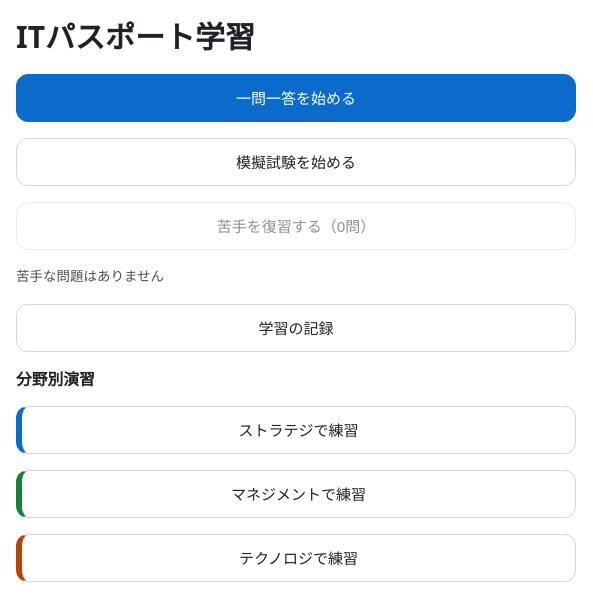
Test: 解答中の画面 › 「前へ」「次へ」で問題を行き来でき、選んだ答えは残る
Click the button "模擬試験を始める" at (296, 162), box x1=16 y1=138 x2=576 y2=186
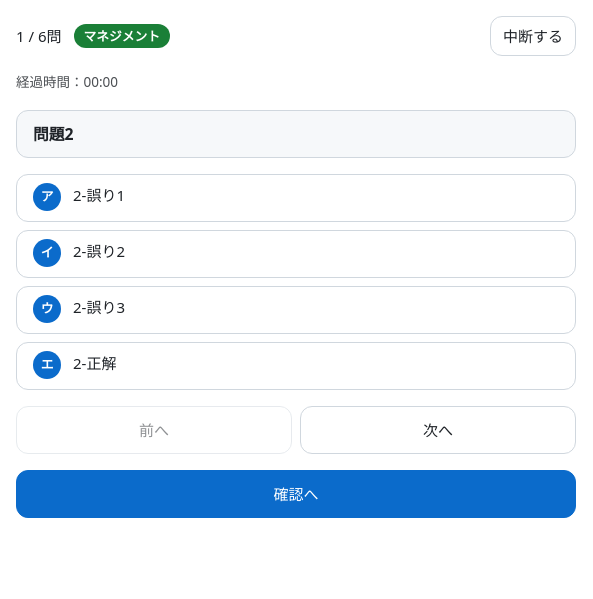
Click the button "ア 2-誤り1" at (99, 195), box x1=16 y1=174 x2=576 y2=222
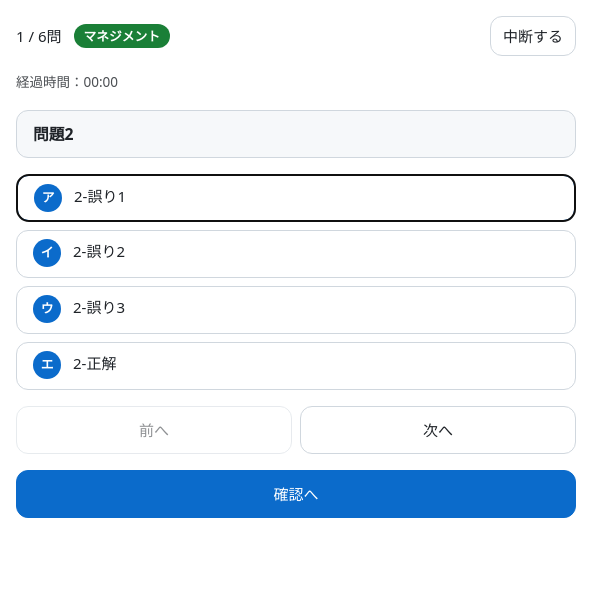
Click the button "次へ" at (438, 430), box x1=300 y1=406 x2=576 y2=454
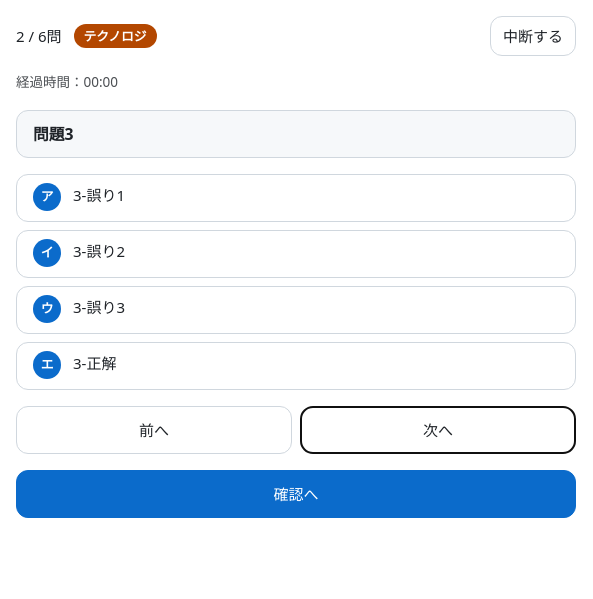
Check: the text "2 / 6問" is shown, box x1=16 y1=24 x2=62 y2=48
Click the button "前へ" at (154, 430), box x1=16 y1=406 x2=292 y2=454
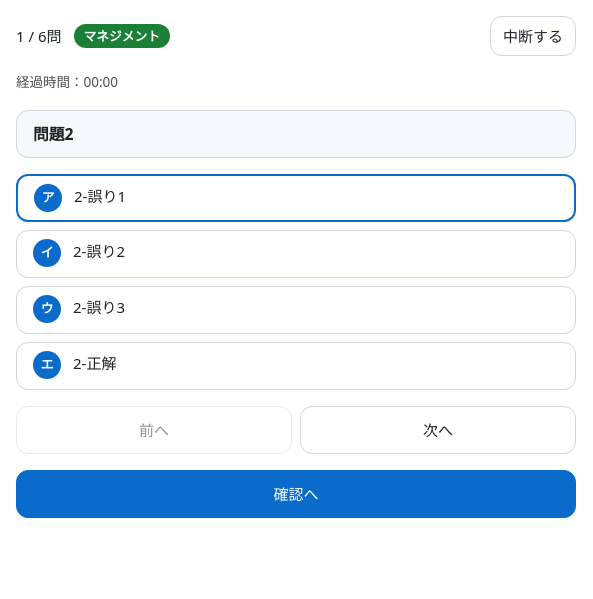
Check: the text "1 / 6問" is shown, box x1=16 y1=24 x2=62 y2=48
